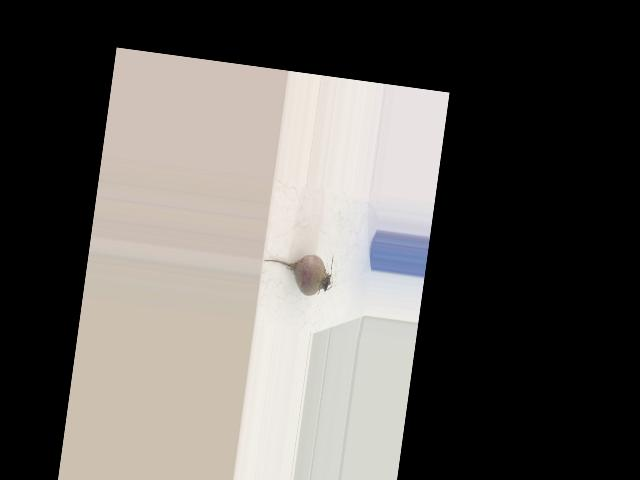beet: (259, 245, 336, 298)
